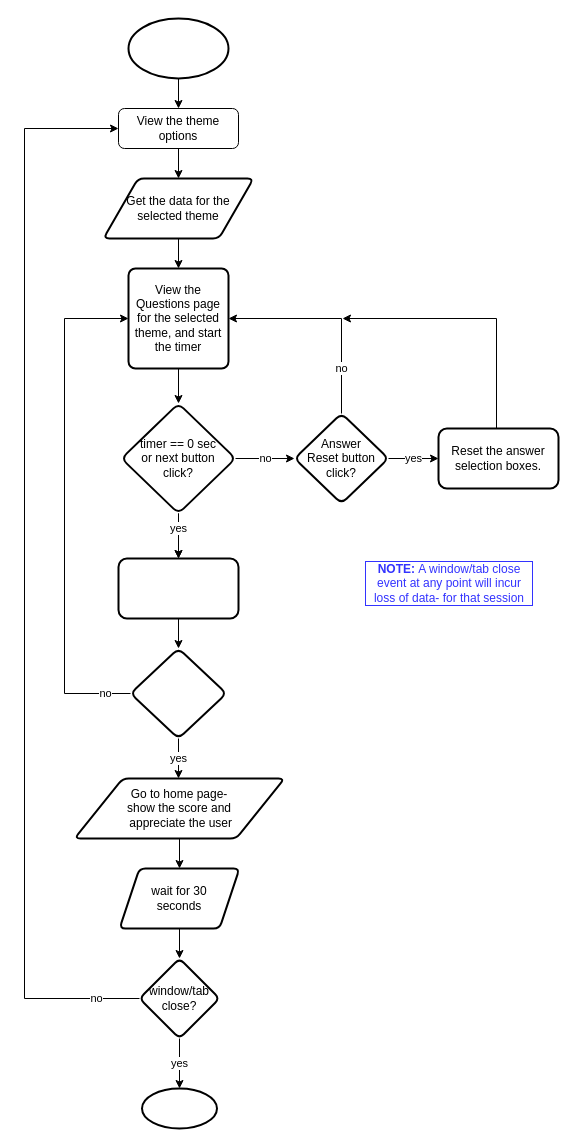
Image size: 577x1146. Some labels were removed from this diagram. Each missing label, with the centre of its shape:
All questions completed?: (178,693)
Go to next question: (178,588)
START: (178,48)
STOP: (179,1108)
